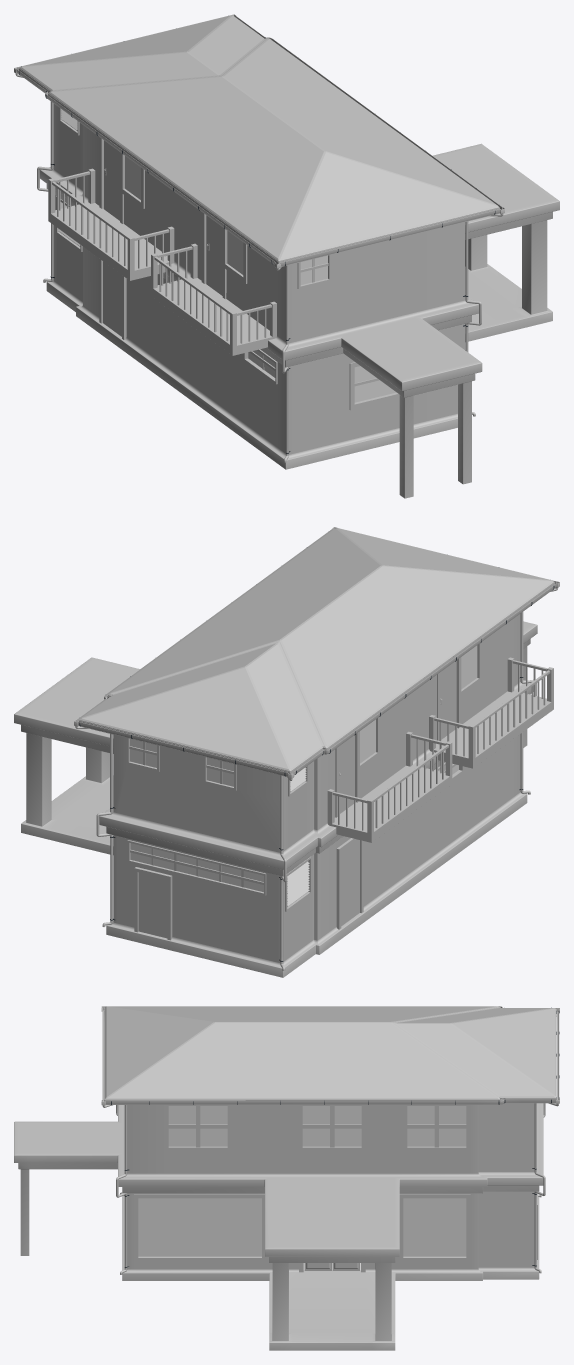
The model's file is Old Building.fbx.
3 views of the same model, one above another, from view 1: azimuth 30°, elevation 25°; view 2: azimuth 150°, elevation 25°; view 3: azimuth 270°, elevation 25° (orthographic). The views are drawn at different scales.
Visible parts, largest first — view 1: Rooftiles, walls, concrite, balcony.002, balcony.001, window/door_frams, gutter_rail, doors, window_glass, drain_pipe.004, drain_pipe.003, drain_pipe.001; view 2: Rooftiles, walls, concrite, window/door_frams, balcony.001, balcony.002, doors, window_glass, gutter_rail, loowers, drain_pipe.001, drain_pipe.002 (+1 smaller); view 3: Rooftiles, concrite, walls, window_glass, window/door_frams, gutter_rail, drain_pipe.003, drain_pipe.002, main door.
Boxes of the visible parts, x1,y1,x2,y2 form: Rooftiles: (19, 15, 499, 266); walls: (53, 104, 464, 454); concrite: (39, 143, 559, 498); balcony.002: (151, 243, 276, 355); balcony.001: (48, 168, 174, 280); window/door_frams: (99, 137, 399, 410); gutter_rail: (16, 15, 502, 266); doors: (103, 140, 222, 336); window_glass: (125, 156, 396, 402); drain_pipe.004: (276, 265, 288, 462); drain_pipe.003: (465, 213, 503, 416); drain_pipe.001: (15, 73, 53, 282); Rooftiles: (79, 528, 554, 776); walls: (113, 613, 520, 962); concrite: (14, 621, 537, 977); window/door_frams: (126, 642, 481, 940); balcony.001: (327, 731, 452, 842); balcony.002: (429, 657, 553, 768); doors: (138, 660, 456, 938); window_glass: (130, 645, 477, 892); gutter_rail: (76, 528, 557, 776); loowers: (285, 765, 311, 911); drain_pipe.001: (280, 775, 292, 970); drain_pipe.002: (75, 726, 112, 926); Rooftiles: (105, 1006, 556, 1104); concrite: (14, 1103, 543, 1350); walls: (127, 1103, 534, 1269); window_glass: (138, 1106, 466, 1256); window/door_frams: (134, 1105, 537, 1261); gutter_rail: (102, 1006, 559, 1104); drain_pipe.003: (102, 1105, 127, 1274); drain_pipe.002: (534, 1103, 558, 1273); main door: (304, 1263, 359, 1270).
Size of the model in its own units: 1097 by 675 by 1522.
